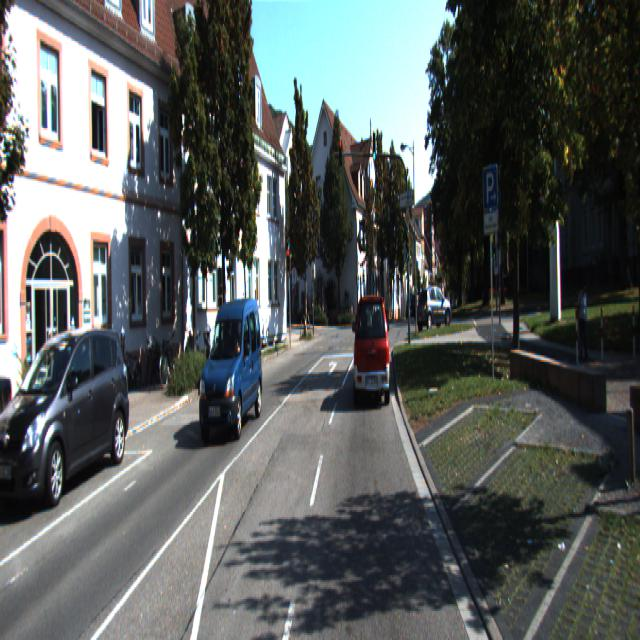Car: (0, 321, 131, 510), (196, 294, 264, 442), (204, 314, 259, 393), (355, 294, 391, 406), (416, 283, 452, 331)
